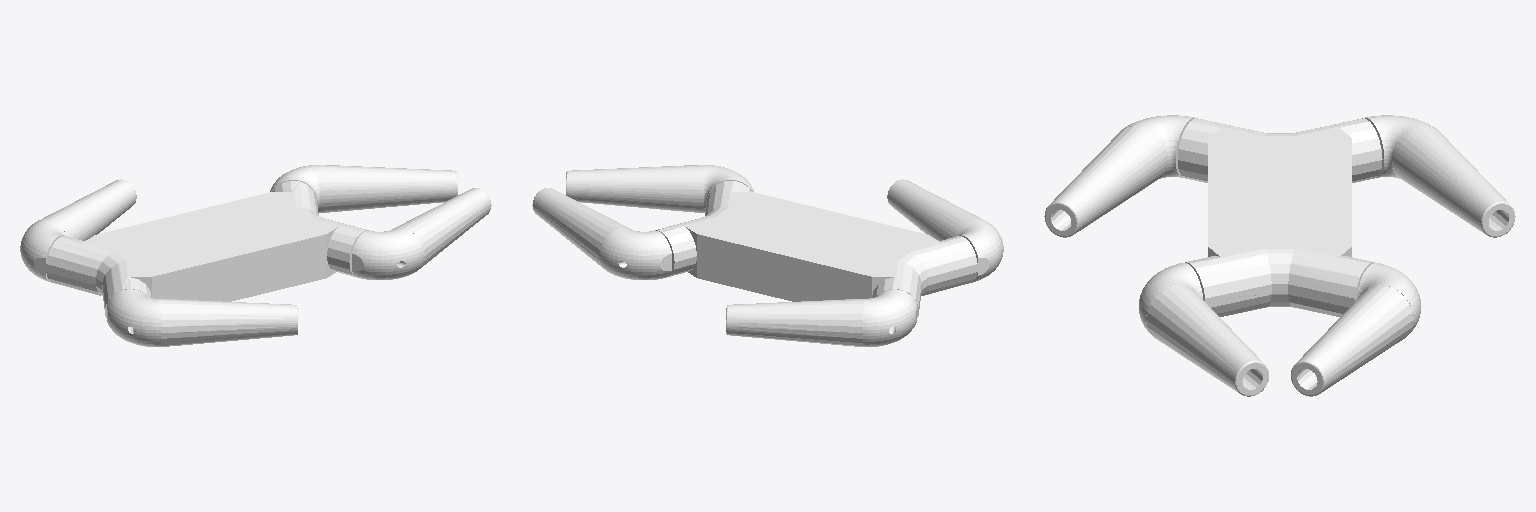
The robot description file, URDF, robot "27_degree":
<?xml version="1.0" encoding="utf-8"?>
<!-- This URDF was automatically created by SolidWorks to URDF Exporter! Originally created by [author] ([email redacted]) 
     Commit Version: 1.5.1-0-g916b5db  Build Version: 1.5.7152.31018
     For more information, please see http://wiki.ros.org/sw_urdf_exporter -->
<robot
  name="27_degree">
  <link
    name="base_link">
    <inertial>
      <origin
        xyz="-4.1633E-17 8.2217E-08 3.4694E-18"
        rpy="0 0 0" />
      <mass
        value="2.803" />
      <inertia
        ixx="0.009326258"
        ixy="8.8013E-19"
        ixz="-9.0719E-09"
        iyy="0.045969254"
        iyz="-5.1721E-18"
        izz="0.05291327" />
    </inertial>
    <visual>
      <origin
        xyz="0 0 0"
        rpy="0 0 0" />
      <geometry>
        <mesh
          filename="package://27_degree/meshes/base_link.STL" />
      </geometry>
      <material
        name="">
        <color
          rgba="1 1 1 1" />
      </material>
    </visual>
    <collision>
      <origin
        xyz="0 0 0"
        rpy="0 0 0" />
      <geometry>
        <mesh
          filename="package://27_degree/meshes/base_link.STL" />
      </geometry>
    </collision>
  </link>
  <link
    name="left_fromt_link">
    <inertial>
      <origin
        xyz="-8.3871E-08 0.082557 0.0010642"
        rpy="0 0 0" />
      <mass
        value="0.0973" />
      <inertia
        ixx="0.000439974"
        ixy="3.5621E-10"
        ixz="4.7544E-10"
        iyy="0.000110252"
        iyz="-0.000139457"
        izz="0.000379894" />
    </inertial>
    <visual>
      <origin
        xyz="0 0 0"
        rpy="0 0 0" />
      <geometry>
        <mesh
          filename="package://27_degree/meshes/left_fromt_link.STL" />
      </geometry>
      <material
        name="">
        <color
          rgba="1 1 1 1" />
      </material>
    </visual>
    <collision>
      <origin
        xyz="0 0 0"
        rpy="0 0 0" />
      <geometry>
        <mesh
          filename="package://27_degree/meshes/left_fromt_link.STL" />
      </geometry>
    </collision>
  </link>
  <joint
    name="left_front_leg"
    type="continuous">
    <origin
      xyz="0.17676 0.091774 0"
      rpy="1.5708 1.5708 0" />
    <parent
      link="base_link" />
    <child
      link="left_fromt_link" />
    <axis
      xyz="0 0.45399 -0.89101" />
    <limit
      effort="5"
      velocity="487" />
  </joint>
  <link
    name="right_front_link">
    <inertial>
      <origin
        xyz="8.3871E-08 0.082557 -0.0010642"
        rpy="0 0 0" />
      <mass
        value="0.0973" />
      <inertia
        ixx="0.000439974"
        ixy="-3.5621E-10"
        ixz="4.7544E-10"
        iyy="0.000110252"
        iyz="0.000139457"
        izz="0.000379894" />
    </inertial>
    <visual>
      <origin
        xyz="0 0 0"
        rpy="0 0 0" />
      <geometry>
        <mesh
          filename="package://27_degree/meshes/right_front_link.STL" />
      </geometry>
      <material
        name="">
        <color
          rgba="1 1 1 1" />
      </material>
    </visual>
    <collision>
      <origin
        xyz="0 0 0"
        rpy="0 0 0" />
      <geometry>
        <mesh
          filename="package://27_degree/meshes/right_front_link.STL" />
      </geometry>
    </collision>
  </link>
  <joint
    name="right_front_leg"
    type="continuous">
    <origin
      xyz="0.17676 -0.091774 0"
      rpy="1.5708 1.5708 0" />
    <parent
      link="base_link" />
    <child
      link="right_front_link" />
    <axis
      xyz="0 0.45399 0.89101" />
    <limit
      effort="5"
      velocity="487" />
  </joint>
  <link
    name="right_back_link">
    <inertial>
      <origin
        xyz="7.0804E-08 0.074043 0.036532"
        rpy="0 0 0" />
      <mass
        value="0.0973" />
      <inertia
        ixx="0.000439974"
        ixy="-2.2218E-10"
        ixz="8.781E-10"
        iyy="0.000053005"
        iyz="-0.000027102"
        izz="0.000437142" />
    </inertial>
    <visual>
      <origin
        xyz="0 0 0"
        rpy="0 0 0" />
      <geometry>
        <mesh
          filename="package://27_degree/meshes/right_back_link.STL" />
      </geometry>
      <material
        name="">
        <color
          rgba="1 1 1 1" />
      </material>
    </visual>
    <collision>
      <origin
        xyz="0 0 0"
        rpy="0 0 0" />
      <geometry>
        <mesh
          filename="package://27_degree/meshes/right_back_link.STL" />
      </geometry>
    </collision>
  </link>
  <joint
    name="right_back_leg"
    type="continuous">
    <origin
      xyz="-0.17676 -0.091774 0"
      rpy="-2.6704 1.5708 1.5708" />
    <parent
      link="base_link" />
    <child
      link="right_back_link" />
    <axis
      xyz="0 0 1" />
    <limit
      effort="5"
      velocity="487" />
  </joint>
  <link
    name="left_back_link">
    <inertial>
      <origin
        xyz="-7.0804E-08 0.049387 -0.066165"
        rpy="0 0 0" />
      <mass
        value="0.0973" />
      <inertia
        ixx="0.000439974"
        ixy="5.9661E-10"
        ixz="6.8152E-10"
        iyy="0.000154104"
        iyz="0.000171317"
        izz="0.000336042" />
    </inertial>
    <visual>
      <origin
        xyz="0 0 0"
        rpy="0 0 0" />
      <geometry>
        <mesh
          filename="package://27_degree/meshes/left_back_link.STL" />
      </geometry>
      <material
        name="">
        <color
          rgba="1 1 1 1" />
      </material>
    </visual>
    <collision>
      <origin
        xyz="0 0 0"
        rpy="0 0 0" />
      <geometry>
        <mesh
          filename="package://27_degree/meshes/left_back_link.STL" />
      </geometry>
    </collision>
  </link>
  <joint
    name="left_back_leg"
    type="continuous">
    <origin
      xyz="-0.17676 0.091774 0"
      rpy="1.5708 1.5708 0" />
    <parent
      link="base_link" />
    <child
      link="left_back_link" />
    <axis
      xyz="0 -0.45399 -0.89101" />
    <limit
      effort="5"
      velocity="487" />
  </joint>
</robot>

--- Facts derived from the render (not from the file) ---
The picture shows the robot from 3 angles, left to right: view 1: azimuth 30°, elevation 25°; view 2: azimuth 150°, elevation 25°; view 3: azimuth 270°, elevation 25°; orthographic projection.
Robot: 27_degree — 5 links, 4 joints (4 continuous); root link base_link; default pose: every joint at zero.
Visible links, largest first — view 1: base_link, right_back_link, right_front_link, left_fromt_link, left_back_link; view 2: base_link, left_back_link, left_fromt_link, right_front_link, right_back_link; view 3: base_link, right_back_link, left_back_link, left_fromt_link, right_front_link.
Boxes of the visible links, left/top/right/bottom form: base_link: left=46, top=181, right=367, bottom=317; right_back_link: left=107, top=289, right=297, bottom=346; right_front_link: left=352, top=188, right=491, bottom=279; left_fromt_link: left=270, top=165, right=457, bottom=212; left_back_link: left=20, top=179, right=136, bottom=282; base_link: left=656, top=181, right=977, bottom=317; left_back_link: left=726, top=289, right=916, bottom=346; left_fromt_link: left=532, top=188, right=671, bottom=279; right_front_link: left=566, top=165, right=753, bottom=212; right_back_link: left=887, top=179, right=1003, bottom=282; base_link: left=1177, top=118, right=1382, bottom=316; right_back_link: left=1044, top=115, right=1197, bottom=237; left_back_link: left=1362, top=115, right=1515, bottom=237; left_fromt_link: left=1291, top=263, right=1420, bottom=396; right_front_link: left=1139, top=263, right=1268, bottom=396.
Size in the robot's own frame: 0.6123 by 0.4883 by 0.064 metres.
Meshes: 5 distinct files referenced, 5 mesh visuals loaded (5 binary STL).